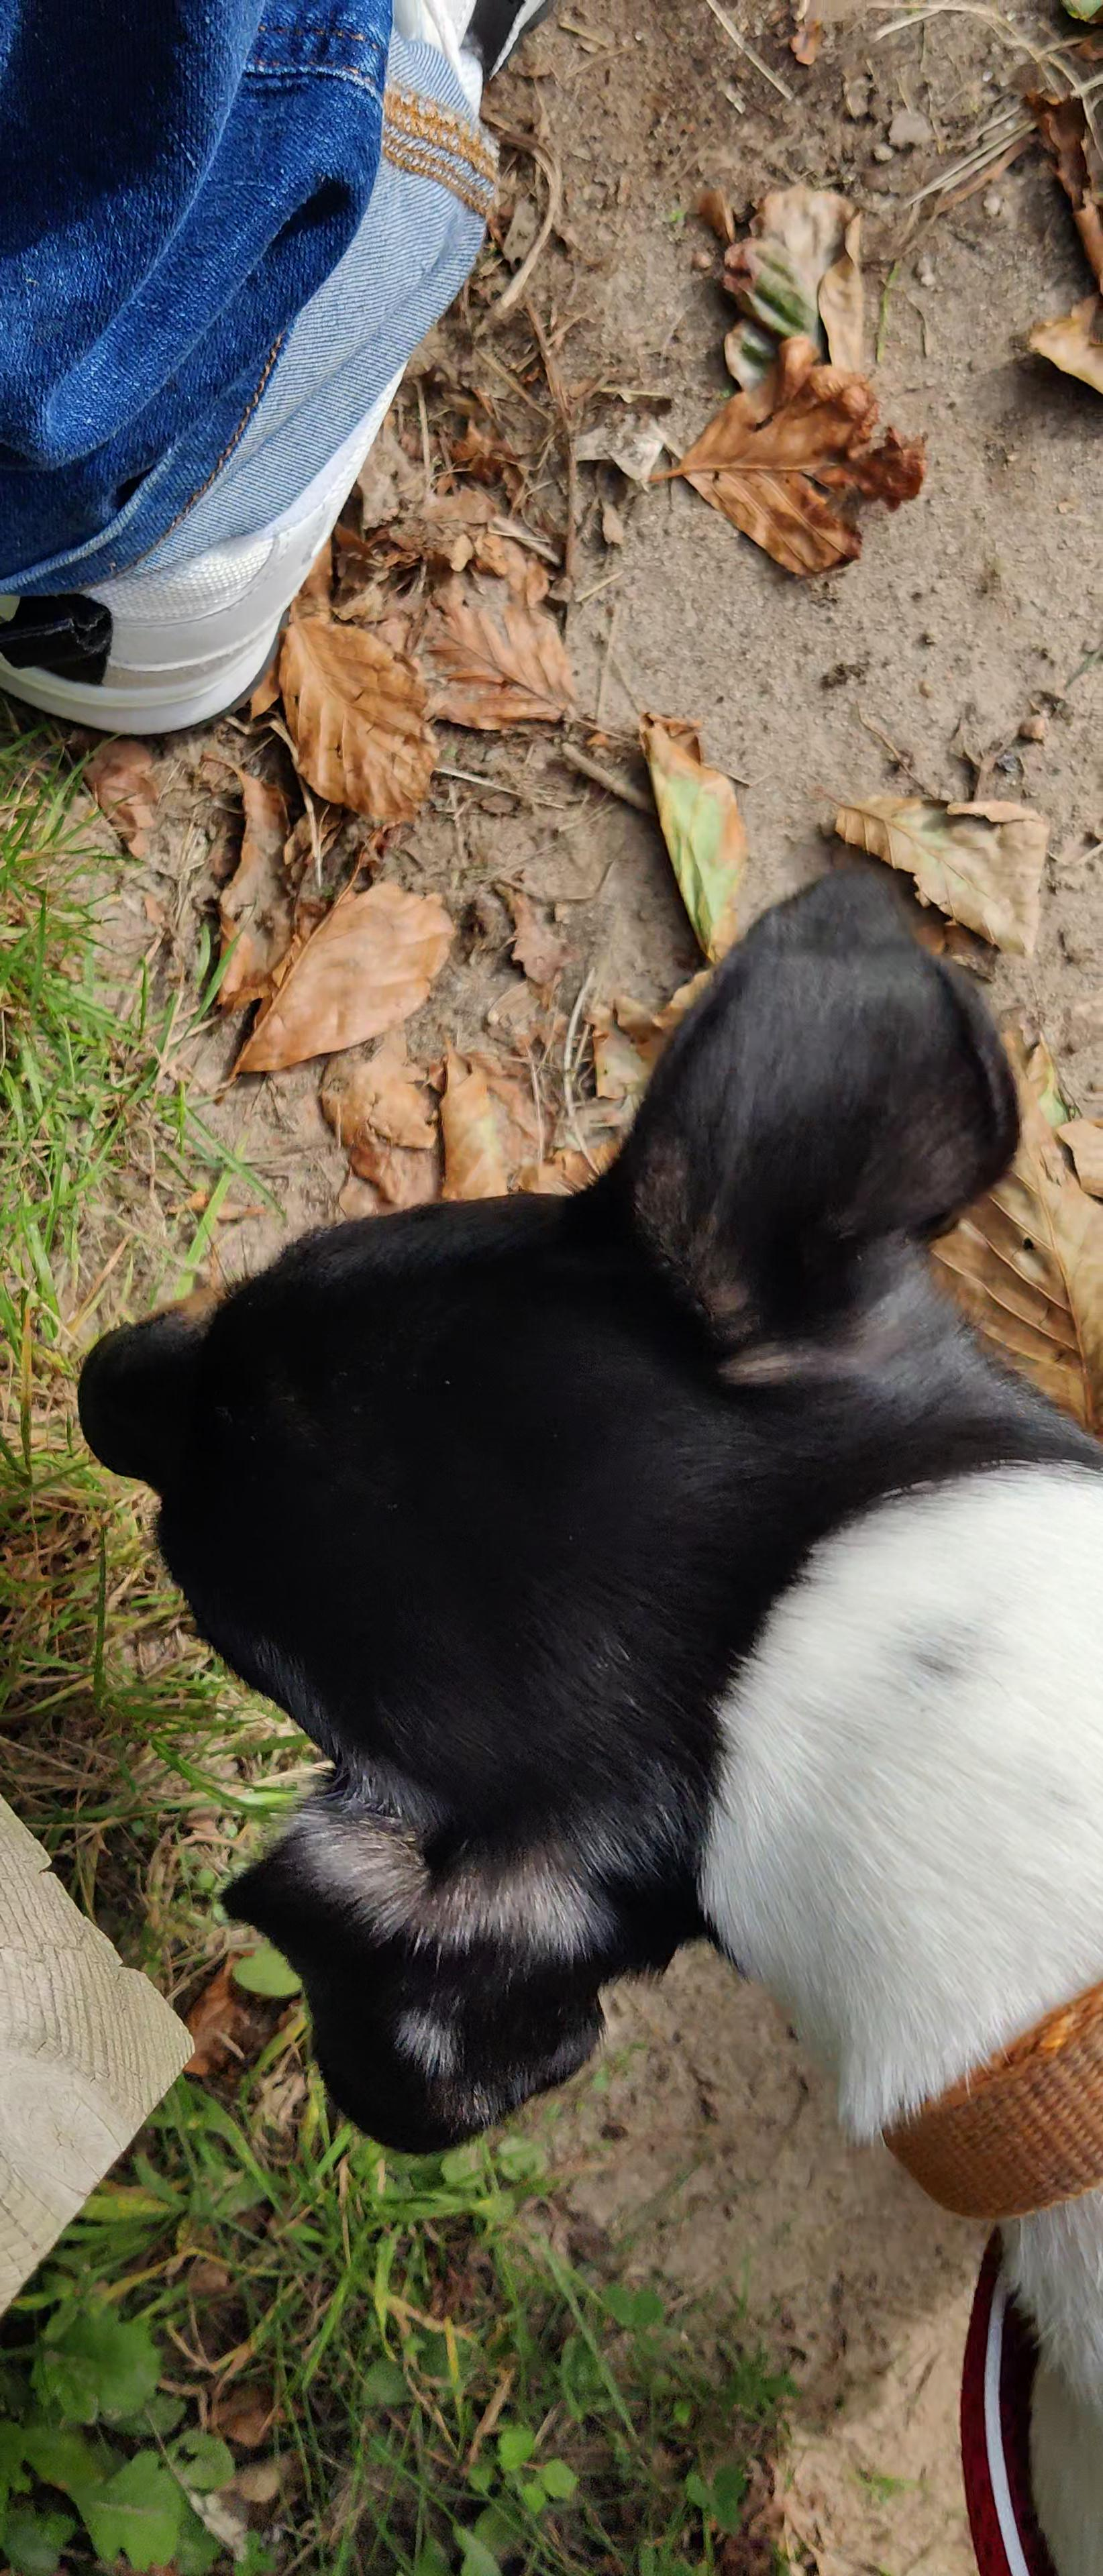Dog: (28, 858, 1103, 2576)
